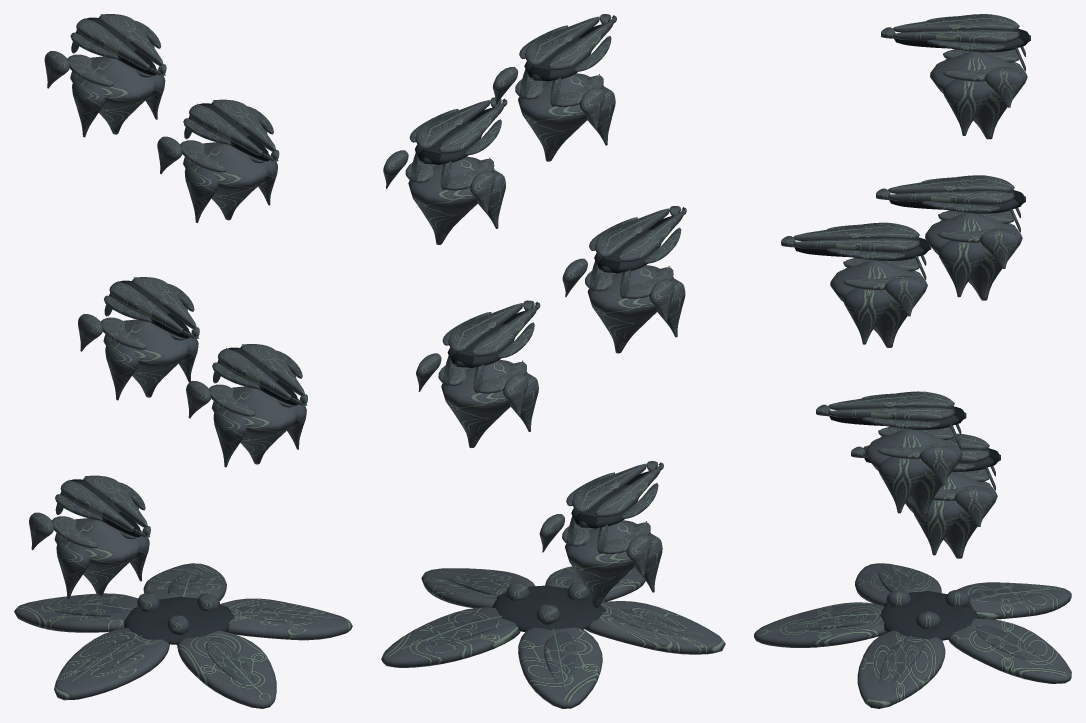
The model's file is GGA2401_source.obj.
3 views of the same model, side by side, from view 1: azimuth 30°, elevation 25°; view 2: azimuth 150°, elevation 25°; view 3: azimuth 270°, elevation 25° (orthographic). The views are drawn at different scales.
Visible parts, largest first — view 1: GGA2401, Island_03, Island_04, Island_05, Island_02, Island_01, Turret_Barrel, Barrel_05, Barrel_01, Barrel_04, Barrel_02; view 2: GGA2401, Island_03, Island_01, Island_05, Island_04, Island_02, Barrel_05, Barrel_01, Barrel_02, Turret_Barrel, Barrel_04; view 3: GGA2401, Island_03, Island_02, Island_05, Island_04, Island_01, Barrel_02, Barrel_04, Barrel_05, Turret_Barrel, Barrel_01.
Part boxes in pixels (x1=…): GGA2401: x1=14, y1=563, x2=352, y2=708; Island_03: x1=78, y1=304, x2=198, y2=400; Island_04: x1=157, y1=127, x2=277, y2=222; Island_05: x1=44, y1=41, x2=165, y2=137; Island_02: x1=186, y1=371, x2=306, y2=467; Island_01: x1=29, y1=503, x2=149, y2=598; Turret_Barrel: x1=104, y1=277, x2=199, y2=339; Barrel_05: x1=70, y1=14, x2=166, y2=76; Barrel_01: x1=55, y1=475, x2=150, y2=537; Barrel_04: x1=183, y1=99, x2=279, y2=161; Barrel_02: x1=212, y1=344, x2=307, y2=406; GGA2401: x1=381, y1=566, x2=725, y2=708; Island_03: x1=562, y1=255, x2=685, y2=353; Island_01: x1=539, y1=510, x2=662, y2=608; Island_05: x1=493, y1=63, x2=615, y2=161; Island_04: x1=383, y1=147, x2=505, y2=244; Island_02: x1=416, y1=350, x2=538, y2=447; Barrel_05: x1=519, y1=14, x2=616, y2=81; Barrel_01: x1=566, y1=461, x2=663, y2=528; Barrel_02: x1=442, y1=300, x2=540, y2=367; Turret_Barrel: x1=589, y1=206, x2=686, y2=273; Barrel_04: x1=409, y1=97, x2=507, y2=164; GGA2401: x1=754, y1=563, x2=1071, y2=708; Island_03: x1=830, y1=249, x2=927, y2=347; Island_02: x1=865, y1=418, x2=962, y2=516; Island_05: x1=930, y1=41, x2=1027, y2=139; Island_04: x1=925, y1=202, x2=1022, y2=300; Island_01: x1=905, y1=466, x2=997, y2=558; Barrel_02: x1=816, y1=391, x2=966, y2=429; Barrel_04: x1=876, y1=175, x2=1025, y2=213; Barrel_05: x1=881, y1=14, x2=1030, y2=52; Turret_Barrel: x1=781, y1=222, x2=931, y2=260; Barrel_01: x1=851, y1=433, x2=1000, y2=471.
Bounding box in the file's own units: 33.46 × 66.02 × 31.83.
1 material, 1 textured.
